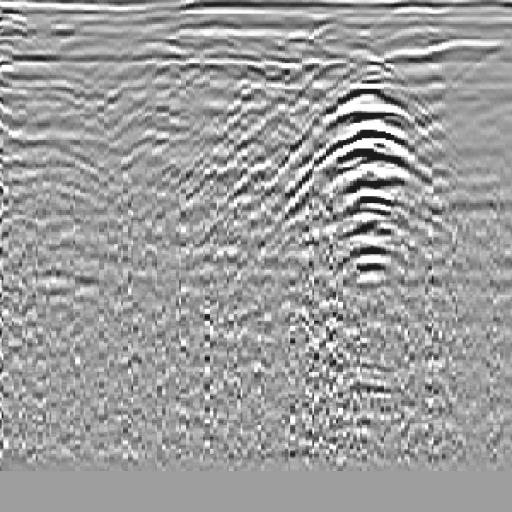metalic: (281, 72, 468, 299)
